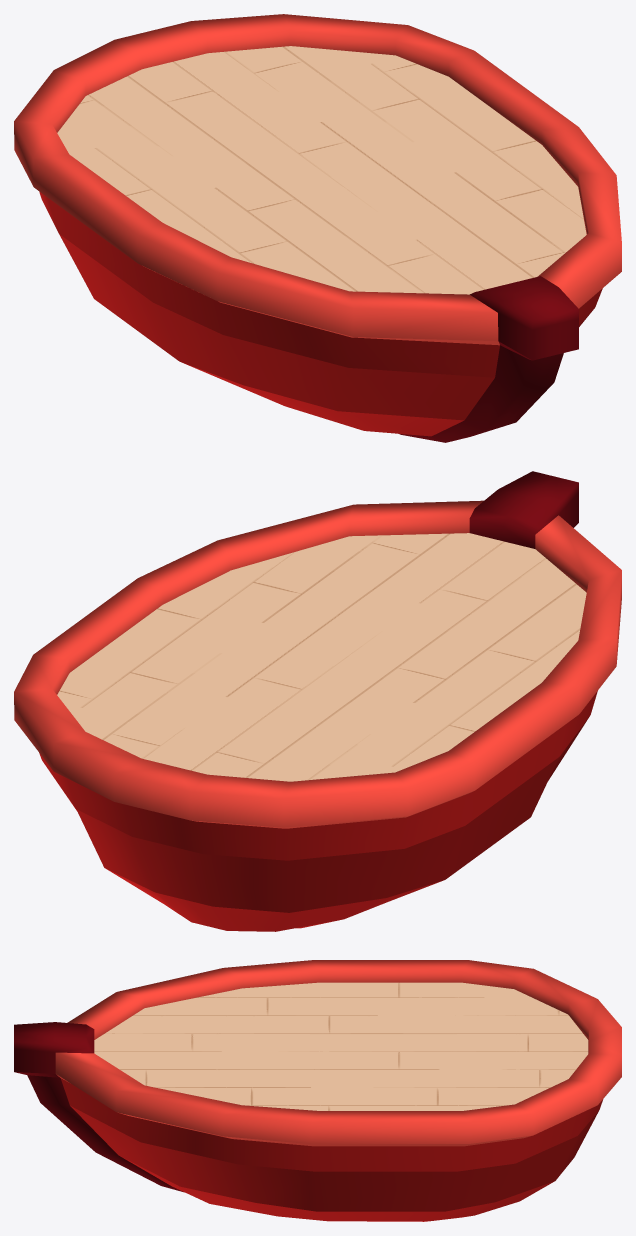
The model's file is kirmizi.fbx.
3 renders of one model, top to bottom at view 1: azimuth 30°, elevation 25°; view 2: azimuth 150°, elevation 25°; view 3: azimuth 270°, elevation 25°, orthographic. The views are drawn at different scales.
Visible parts, largest first — view 1: mini_kirmizi.001; view 2: mini_kirmizi.001; view 3: mini_kirmizi.001.
Boxes of the visible parts, x1,y1,x2,y2 form: mini_kirmizi.001: [14, 14, 621, 442]; mini_kirmizi.001: [14, 471, 621, 931]; mini_kirmizi.001: [14, 960, 621, 1221].
Bounding box in the file's own units: 258 × 131 × 408.
4 materials, 1 textured.
